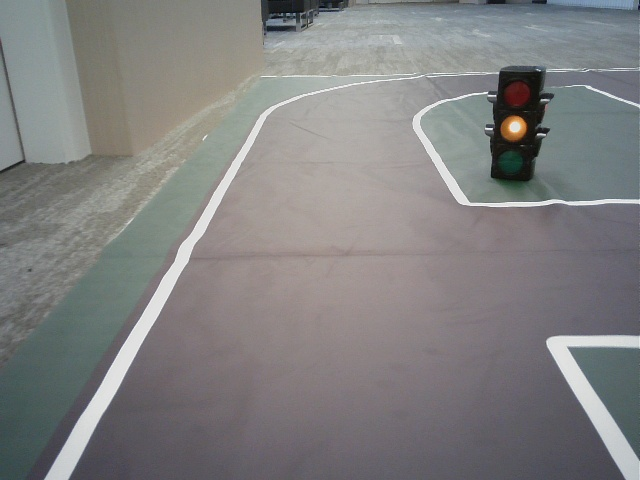yellow: (494, 77, 530, 179)
